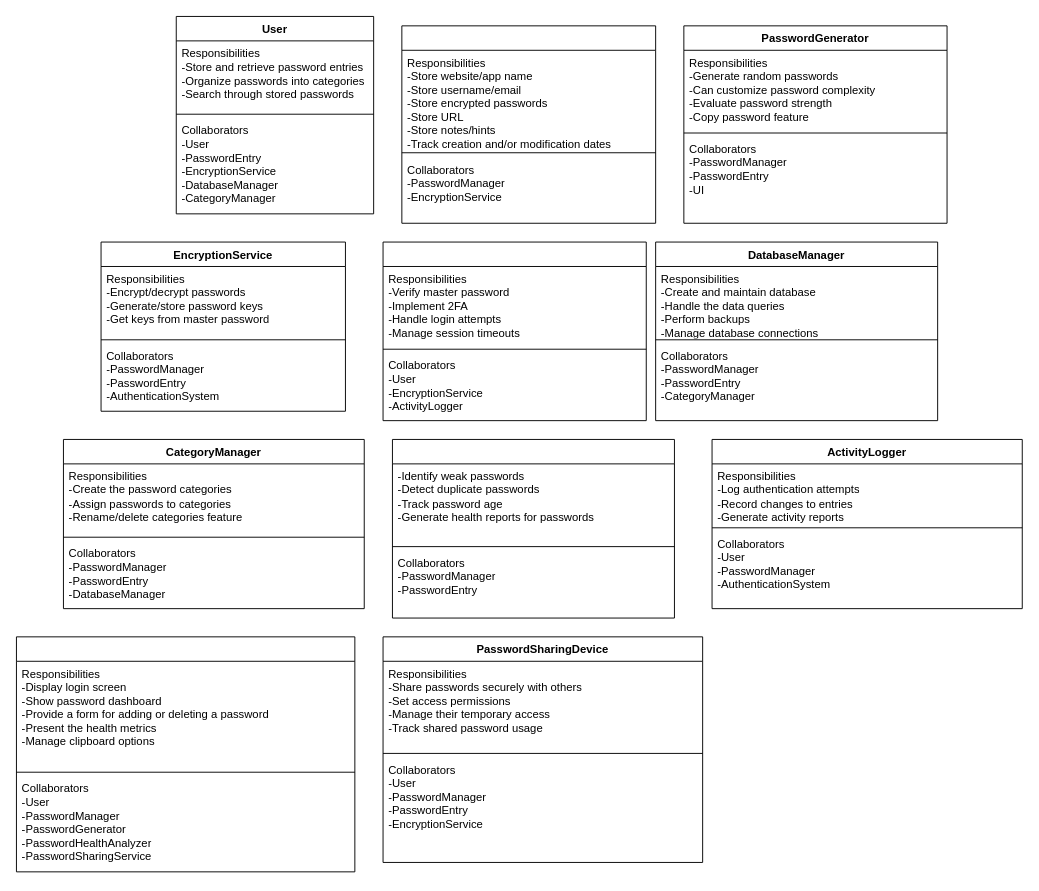
This 1039x891 diagram has some shape labels left out. Here are the shapes that lost their labels. From the top down, the box of each, then its label:
(401, 25, 656, 223): PasswordEntry
(382, 241, 646, 421): AuthenticationSystem
(392, 439, 674, 618): PasswordHealthAnalyzer
(16, 636, 355, 872): UI
